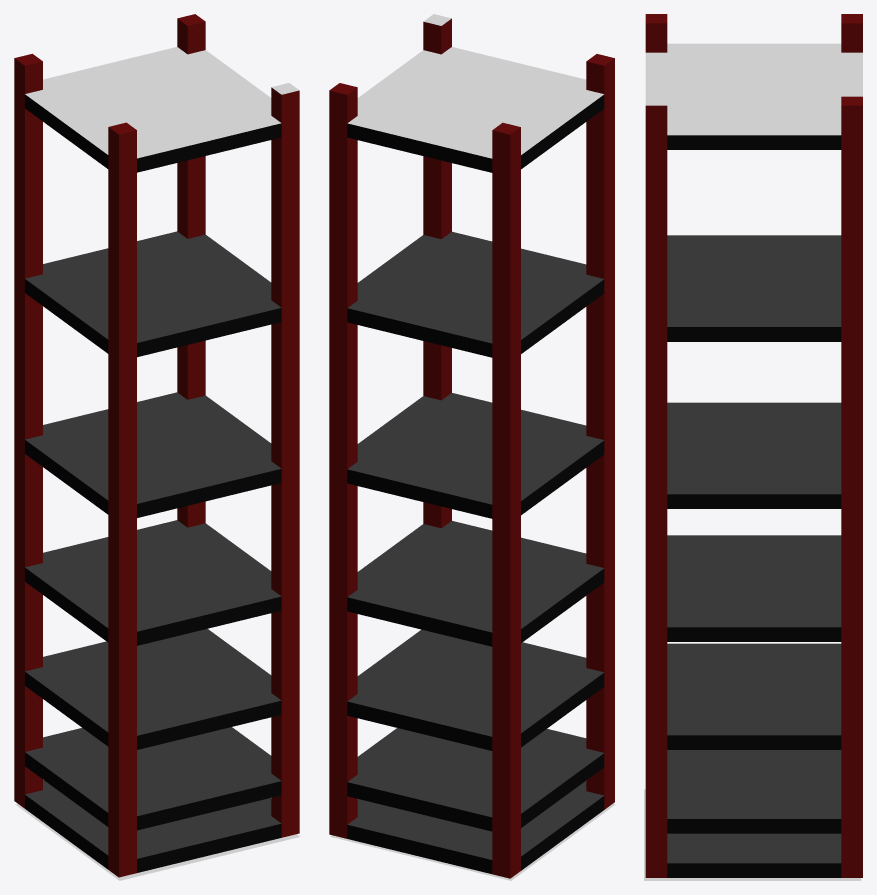
The model's file is big-tower.glb.
The picture shows the model from 3 angles, left to right: view 1: azimuth 30°, elevation 25°; view 2: azimuth 150°, elevation 25°; view 3: azimuth 270°, elevation 25°; orthographic projection. The views are drawn at different scales.
Visible parts, largest first — view 1: Sketchup; view 2: Sketchup; view 3: Sketchup.
Boxes of the visible parts, left/top/right/bottom form: Sketchup: left=14, top=14, right=300, bottom=880; Sketchup: left=329, top=14, right=615, bottom=880; Sketchup: left=644, top=14, right=862, bottom=880.
Bounding box in the file's own units: 0.508 × 2 × 0.5119.
